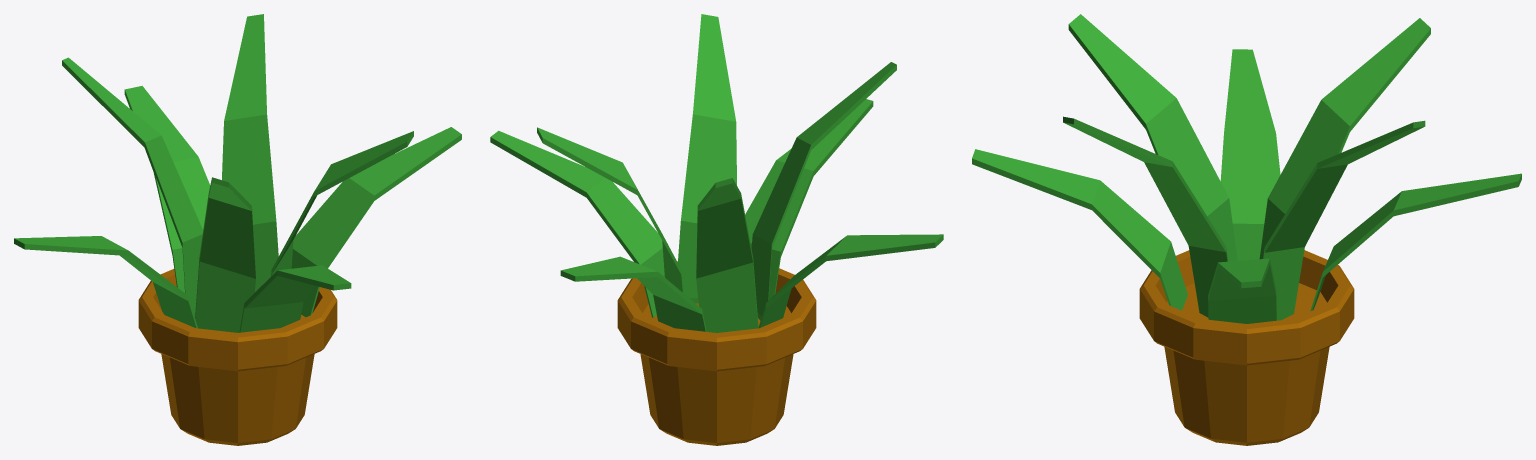
The model's file is Plant_Final(1).fbx.
3 views of the same model, side by side, from view 1: azimuth 30°, elevation 25°; view 2: azimuth 150°, elevation 25°; view 3: azimuth 270°, elevation 25° (orthographic). The views are drawn at different scales.
Parts seen in each view (by area): view 1: Cylinder.002; view 2: Cylinder.002; view 3: Cylinder.002.
Boxes of the visible parts, left/top/right/bottom form: Cylinder.002: left=14, top=14, right=461, bottom=445; Cylinder.002: left=490, top=14, right=943, bottom=445; Cylinder.002: left=972, top=14, right=1521, bottom=445.
Bounding box in the file's own units: 66.67 × 46.9 × 66.54.
